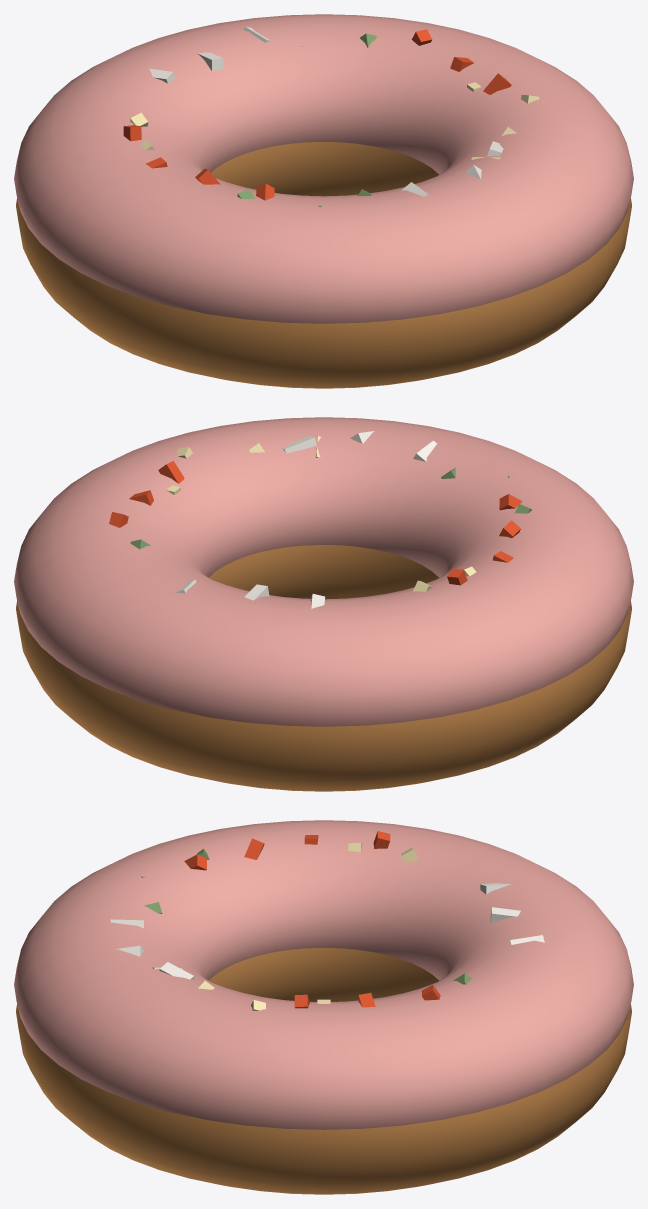
The model's file is donut.glb.
3 views of the same model, one above another, from view 1: azimuth 30°, elevation 25°; view 2: azimuth 150°, elevation 25°; view 3: azimuth 270°, elevation 25° (orthographic).
Visible parts, largest first — view 1: Icing, donut, Sprinkles-1, Sprinkles-3, Sprinkles-0; view 2: Icing, donut, Sprinkles-1, Sprinkles-3, Sprinkles-0; view 3: Icing, donut, Sprinkles-1, Sprinkles-3, Sprinkles-0.
Boxes of the visible parts, left/top/right/bottom form: Icing: left=14, top=14, right=633, bottom=323; donut: left=16, top=142, right=631, bottom=388; Sprinkles-1: left=123, top=29, right=511, bottom=200; Sprinkles-3: left=149, top=26, right=503, bottom=196; Sprinkles-0: left=130, top=82, right=539, bottom=159; Icing: left=14, top=417, right=633, bottom=726; donut: left=16, top=545, right=631, bottom=791; Sprinkles-1: left=109, top=461, right=522, bottom=585; Sprinkles-3: left=175, top=431, right=436, bottom=608; Sprinkles-0: left=166, top=435, right=476, bottom=591; Icing: left=14, top=820, right=633, bottom=1129; donut: left=16, top=947, right=631, bottom=1194; Sprinkles-1: left=184, top=831, right=440, bottom=1008; Sprinkles-3: left=110, top=883, right=544, bottom=979; Sprinkles-0: left=152, top=843, right=418, bottom=1010.
Bounding box in the file's own units: 1.67 × 0.5451 × 1.67.
